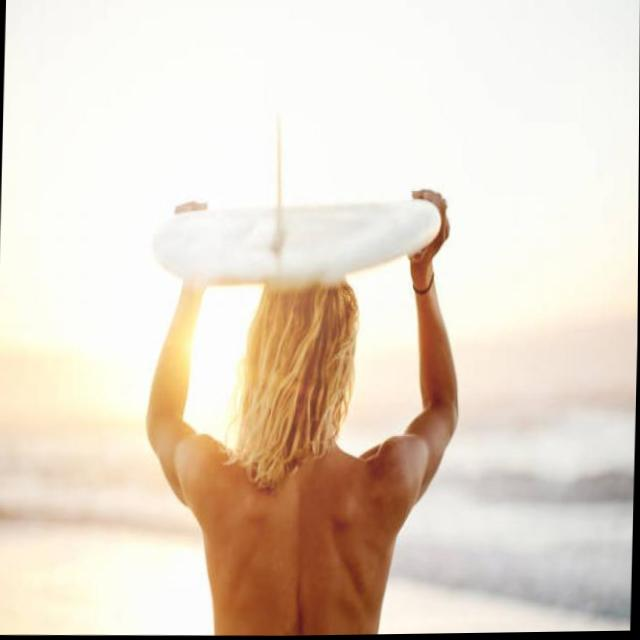no helmet: (247, 278, 359, 464)
